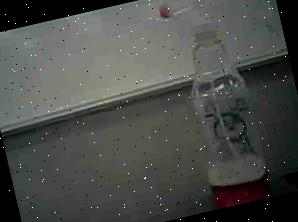hazard: (151, 0, 292, 213)
